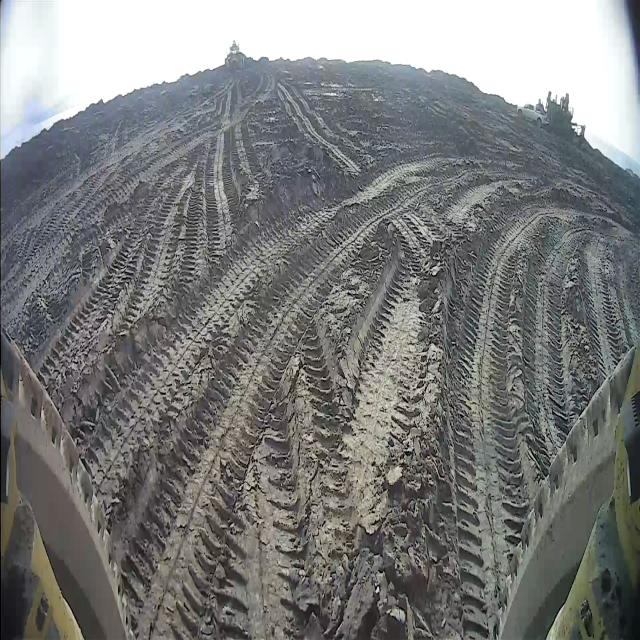hip_of_soil: (347, 467, 448, 629), (283, 334, 356, 453), (194, 506, 258, 636), (108, 442, 170, 568), (428, 241, 464, 340)
